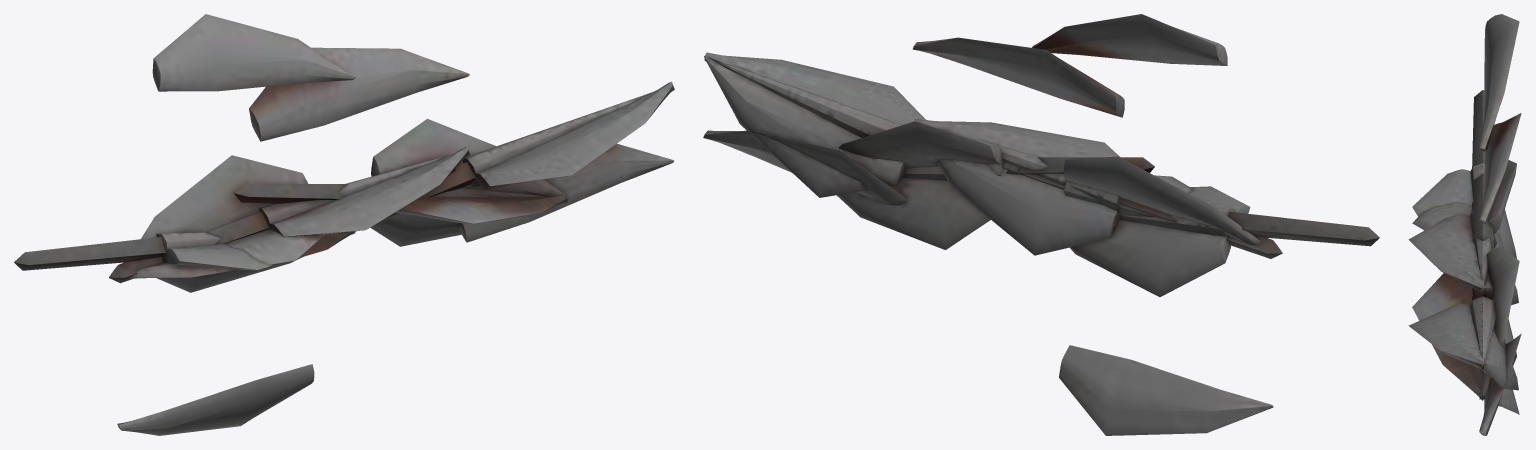
The model's file is arrowheads_trilobate.glb.
3 views of the same model, side by side, from view 1: azimuth 30°, elevation 25°; view 2: azimuth 150°, elevation 25°; view 3: azimuth 270°, elevation 25° (orthographic). The views are drawn at different scales.
Parts seen in each view (by area): view 1: arrowheads_trilobate; view 2: arrowheads_trilobate; view 3: arrowheads_trilobate.
Part boxes in pixels (<box>): arrowheads_trilobate: <box>14,14,674,435</box>; arrowheads_trilobate: <box>703,14,1379,435</box>; arrowheads_trilobate: <box>1408,14,1521,435</box>.
Bounding box in the file's own units: 0.1277 × 0.0779 × 0.0212.
1 material, 1 textured.
